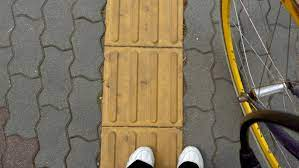guide_blocks: (104, 1, 182, 168)
